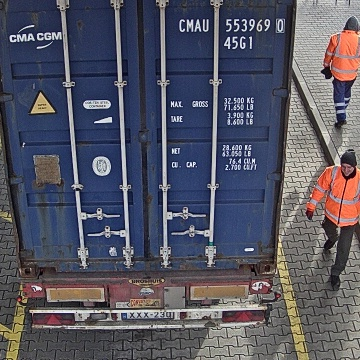serial_id: (178, 18, 283, 32)
